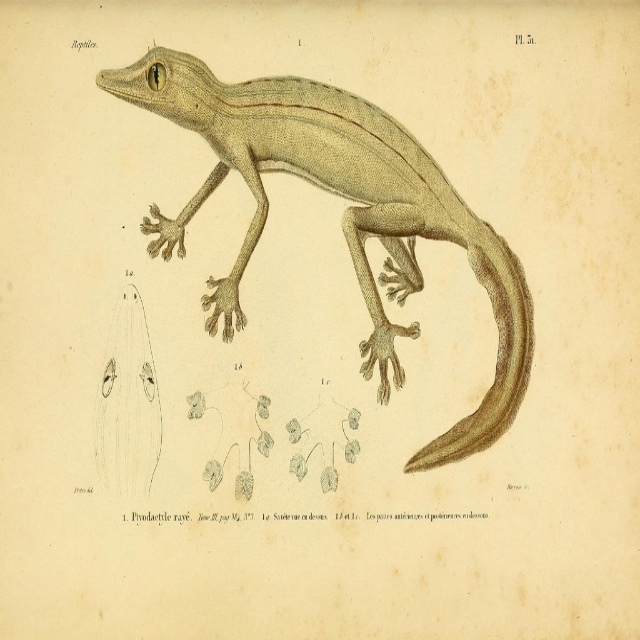Lizard: (100, 44, 554, 462)
